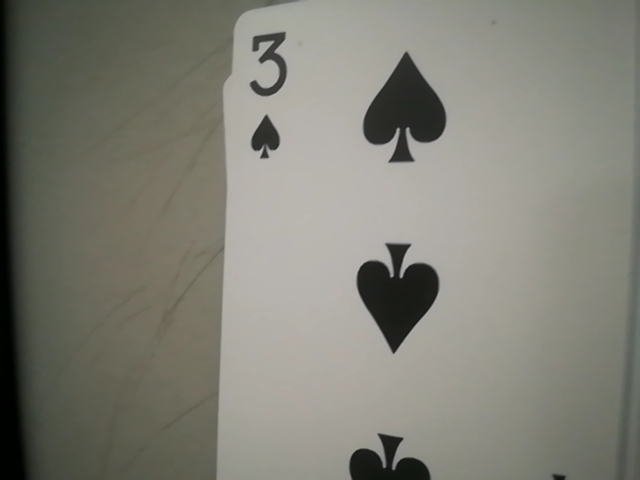ht 3: (232, 25, 306, 169)
